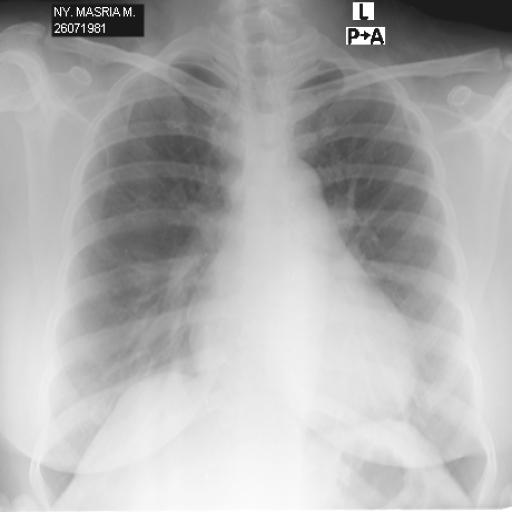kardiomegali: (180, 230, 426, 432)
